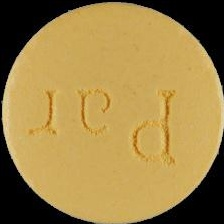49884-564: (0, 0, 224, 224)
